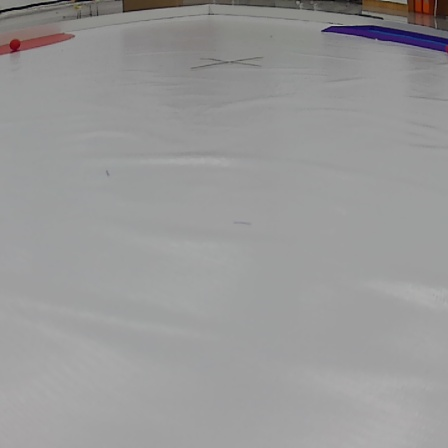blue_aim: (314, 23, 448, 47)
red: (9, 36, 21, 48)
red_base: (0, 30, 82, 57)
